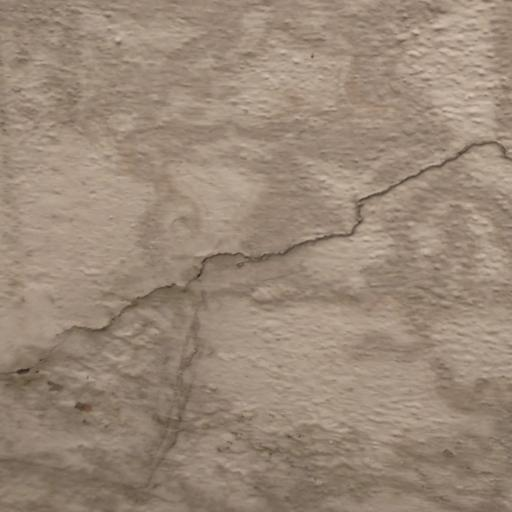minor_crack: (48, 100, 512, 443)
